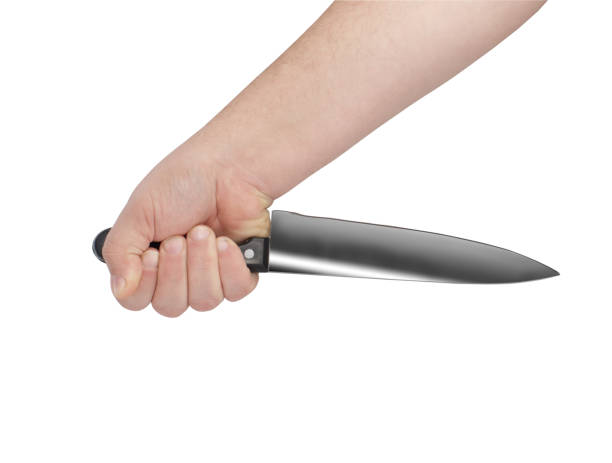knife: (89, 204, 562, 288)
